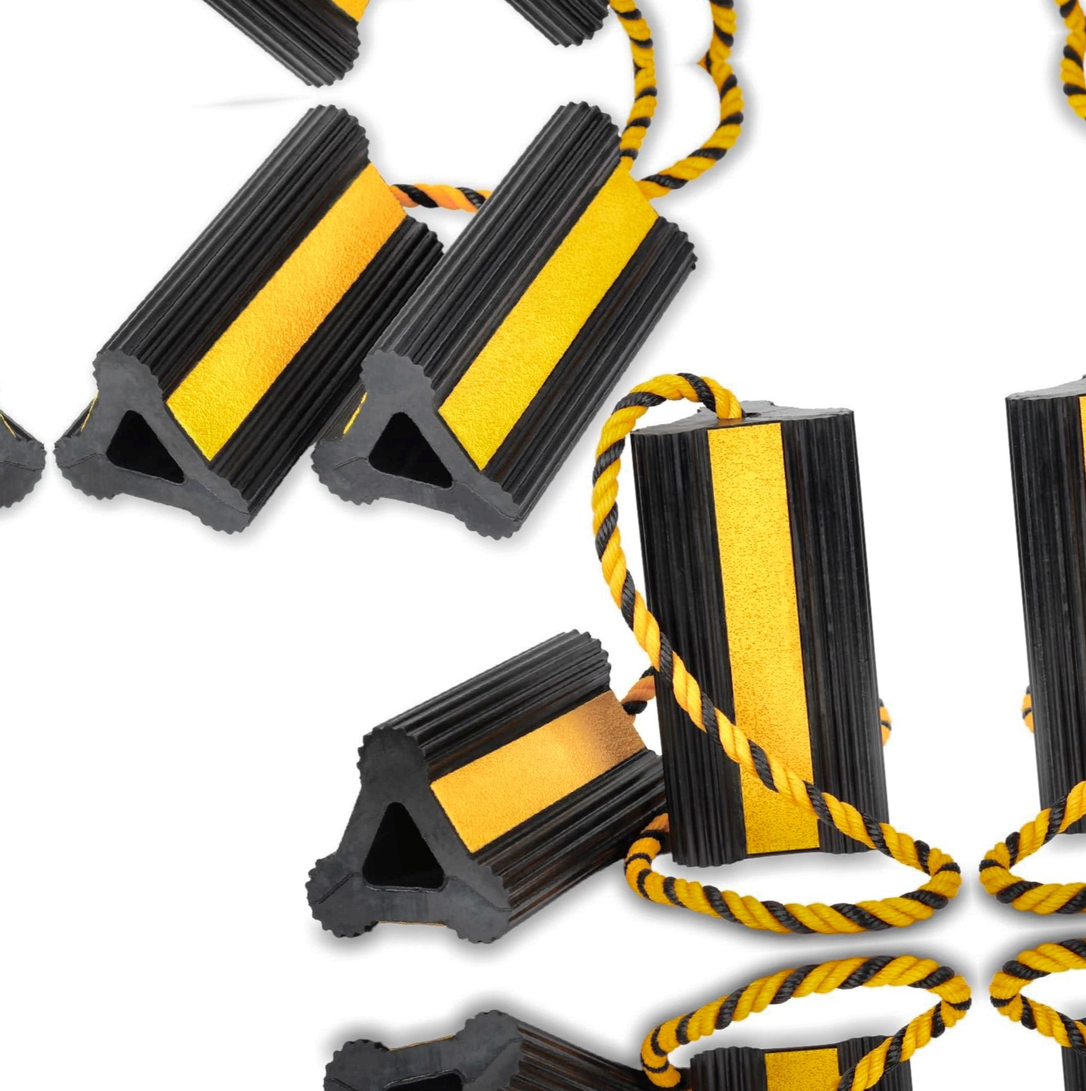chock: (25, 93, 469, 565), (282, 91, 721, 563), (285, 618, 685, 964), (624, 389, 905, 871), (990, 358, 1086, 840)
